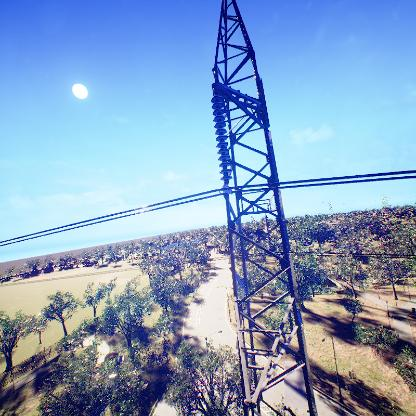insulator: (209, 95, 233, 182)
